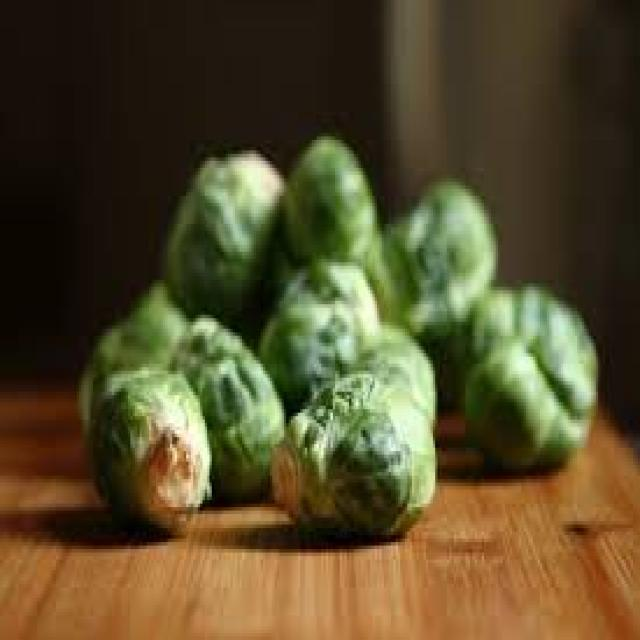biodegradable: (266, 360, 438, 539), (365, 175, 496, 402), (444, 280, 596, 469), (158, 143, 289, 329), (168, 311, 282, 504), (86, 364, 207, 535), (254, 252, 377, 420), (77, 276, 191, 437), (280, 130, 380, 284), (345, 322, 436, 427), (254, 245, 296, 311)
